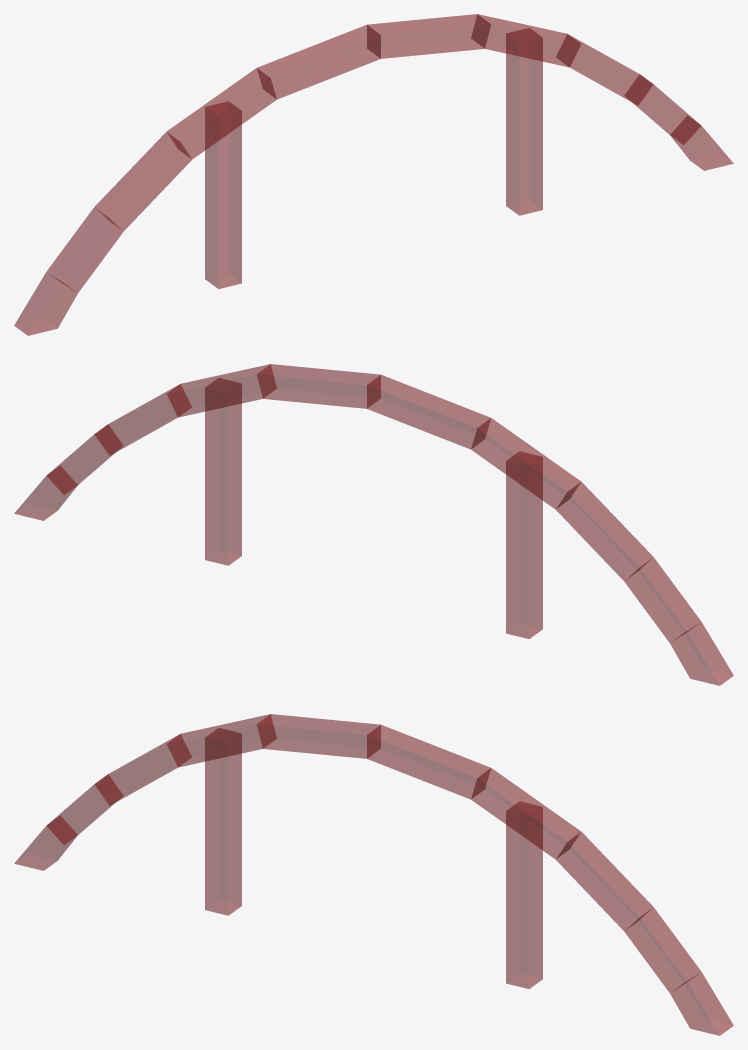
File: SM_Prop_Gantry_03_Collision.fbx
The picture shows the model from 3 angles, top to bottom: view 1: azimuth 30°, elevation 25°; view 2: azimuth 150°, elevation 25°; view 3: azimuth 330°, elevation 25°; orthographic projection.
Visible parts, largest first — view 1: SM_Prop_Gantry_03_Collision; view 2: SM_Prop_Gantry_03_Collision; view 3: SM_Prop_Gantry_03_Collision.
Part boxes in pixels (bbox=[...]): SM_Prop_Gantry_03_Collision: bbox=[14, 14, 733, 335]; SM_Prop_Gantry_03_Collision: bbox=[14, 364, 733, 685]; SM_Prop_Gantry_03_Collision: bbox=[14, 714, 733, 1035].
Bounding box in the file's own units: 3041 × 885 × 105.
